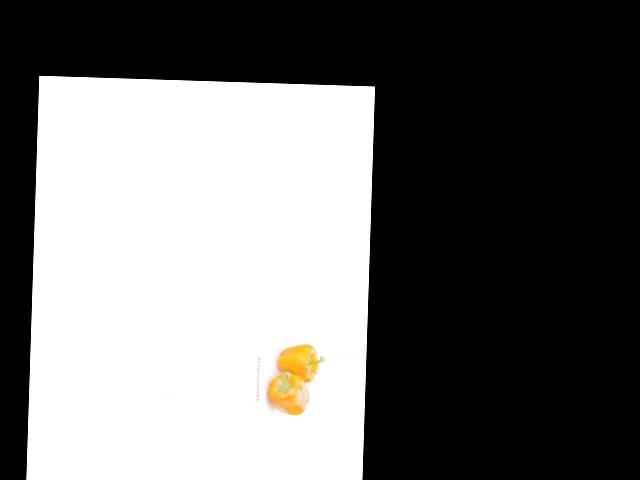bell_pepper: (262, 369, 311, 417)
